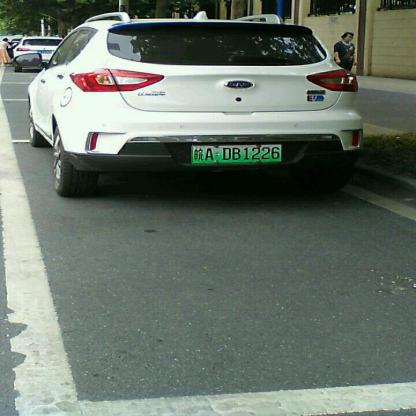lp: (192, 144, 280, 162)
